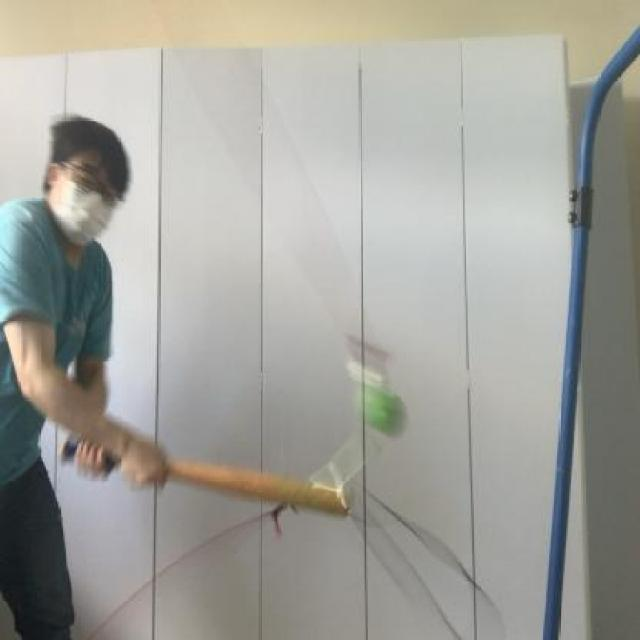baseball: (336, 364, 404, 433)
